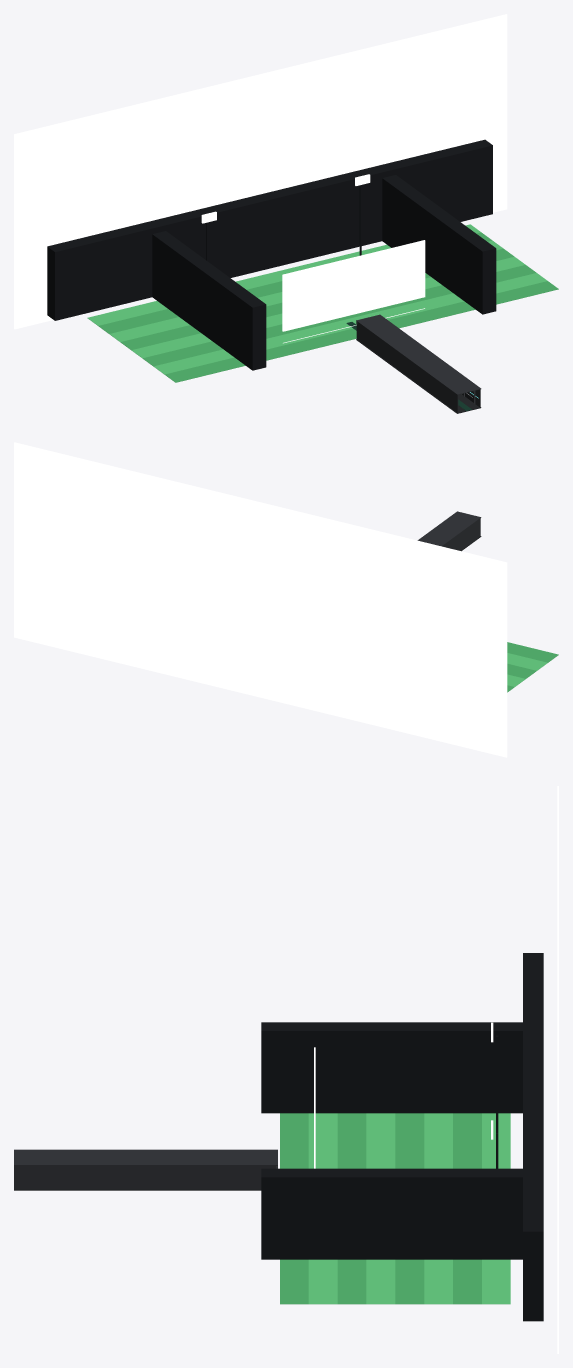
The model's file is tunel.glb.
The picture shows the model from 3 angles, top to bottom: view 1: azimuth 30°, elevation 25°; view 2: azimuth 150°, elevation 25°; view 3: azimuth 270°, elevation 25°; orthographic projection. The views are drawn at different scales.
Visible parts, largest first — view 1: Sky, StandBack, StandL, ExitGlareWall, StandR, Grass0, Grass1, Ceiling, Grass2, Grass7, WallL, Grass3 (+3 smaller); view 2: Sky, Ceiling, WallL, Grass0, Grass1; view 3: StandR, StandL, StandBack, WallR, Ceiling, Grass3, Grass4, Grass2, Grass1, Grass0, Grass5, Grass6 (+2 smaller).
Boxes of the visible parts, x1,y1,x2,y2 form: Sky: (14, 14, 507, 329); StandBack: (47, 139, 492, 320); StandL: (152, 231, 266, 370); ExitGlareWall: (282, 240, 425, 331); StandR: (382, 175, 496, 314); Grass0: (164, 281, 558, 382); Grass1: (153, 273, 547, 374); Ceiling: (356, 314, 481, 394); Grass2: (143, 265, 536, 366); Grass7: (87, 224, 481, 325); WallL: (356, 322, 458, 412); Grass3: (131, 256, 525, 358); Sky: (14, 442, 507, 757); Ceiling: (417, 511, 481, 546); WallL: (442, 518, 480, 550); Grass0: (507, 642, 558, 662); Grass1: (507, 653, 547, 670); StandR: (261, 1168, 522, 1259); StandL: (261, 1022, 522, 1113); StandBack: (523, 953, 543, 1321); WallR: (14, 1166, 275, 1189); Ceiling: (14, 1149, 277, 1165); Grass3: (366, 1113, 395, 1304); Grass4: (395, 1113, 424, 1304); Grass2: (337, 1113, 366, 1304); Grass1: (308, 1113, 337, 1304); Grass0: (280, 1113, 308, 1304); Grass5: (424, 1113, 452, 1304); Grass6: (453, 1113, 481, 1304).
Size of the model in its own units: 90 by 34 by 66.1.
